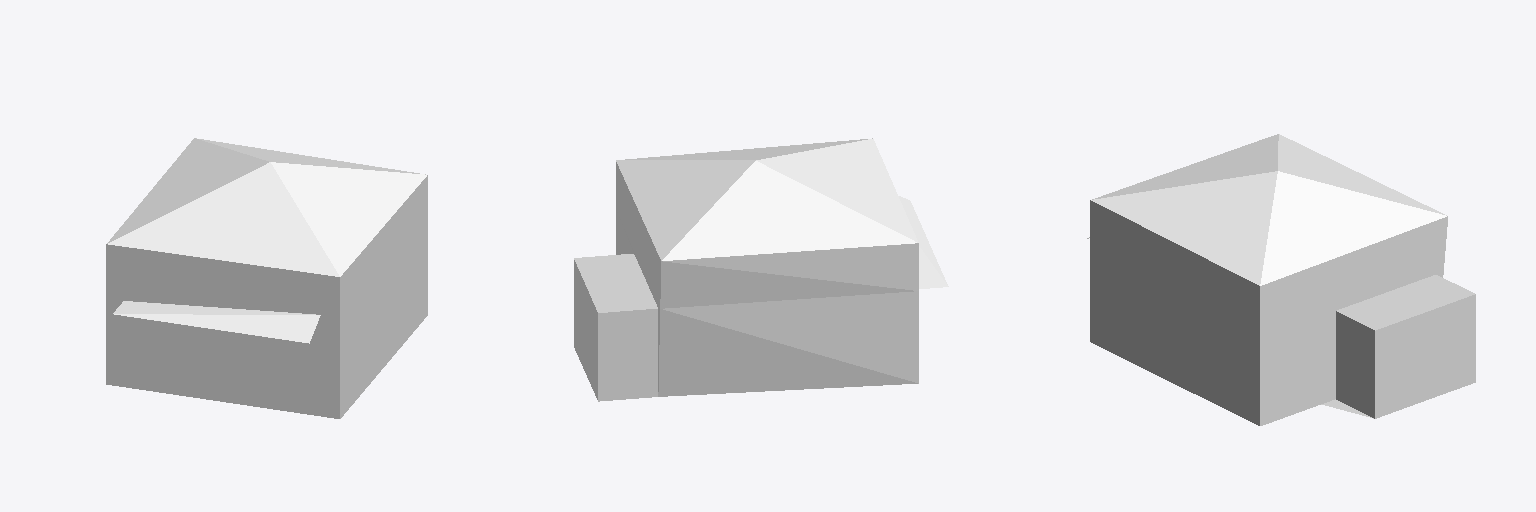
Rendered from house_Shape 250.obj.
The picture shows the model from 3 angles: view 1: azimuth 30°, elevation 25°; view 2: azimuth 150°, elevation 25°; view 3: azimuth 270°, elevation 25°; orthographic projection.
Visible parts, largest first — view 1: CityEngineMaterial_154, CityEngineMaterial_18, CityEngineMaterial_153; view 2: CityEngineMaterial_154, CityEngineMaterial_18, CityEngineMaterial_111, CityEngineMaterial_28; view 3: CityEngineMaterial_154, CityEngineMaterial_18, CityEngineMaterial_153, CityEngineMaterial_28.
Part boxes in pixels (bbox=[...]): CityEngineMaterial_154: bbox=[106, 175, 427, 418]; CityEngineMaterial_18: bbox=[107, 138, 426, 343]; CityEngineMaterial_153: bbox=[340, 223, 427, 418]; CityEngineMaterial_154: bbox=[574, 162, 918, 401]; CityEngineMaterial_18: bbox=[616, 138, 948, 288]; CityEngineMaterial_111: bbox=[660, 243, 918, 308]; CityEngineMaterial_28: bbox=[574, 254, 657, 312]; CityEngineMaterial_154: bbox=[1090, 200, 1475, 425]; CityEngineMaterial_18: bbox=[1087, 134, 1446, 285]; CityEngineMaterial_153: bbox=[1090, 250, 1259, 425]; CityEngineMaterial_28: bbox=[1321, 275, 1474, 418].
Size of the model in its own units: 16.52 by 8.9 by 17.28.